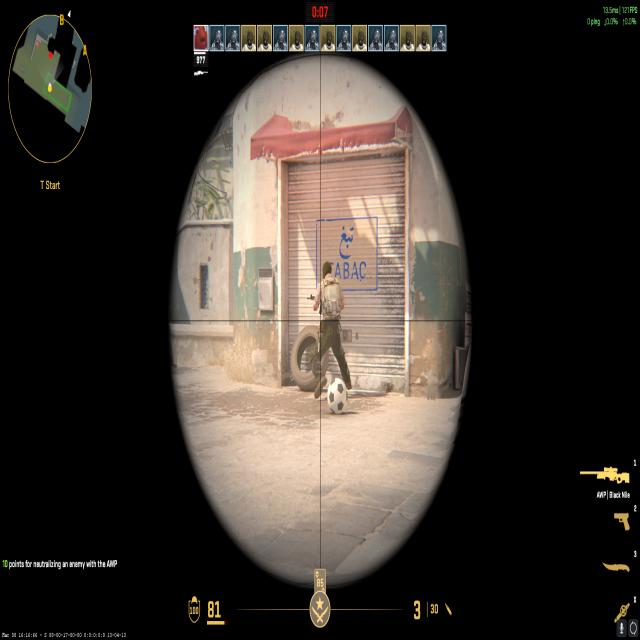t: (302, 253, 355, 401)
